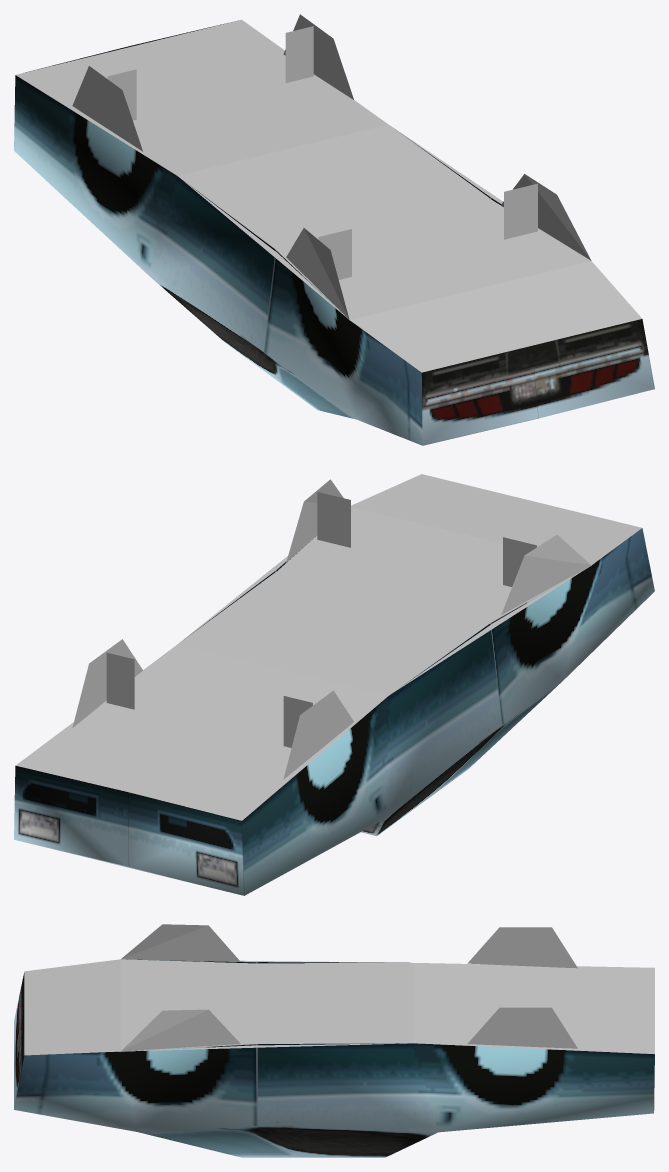
File: CHICAGO_model1_low.obj
3 renders of one model, top to bottom at view 1: azimuth 30°, elevation 25°; view 2: azimuth 150°, elevation 25°; view 3: azimuth 270°, elevation 25°, orthographic. The views are drawn at different scales.
Parts seen in each view (by area): view 1: CHICAGO_model1_low; view 2: CHICAGO_model1_low; view 3: CHICAGO_model1_low.
Part boxes in pixels (bbox=[...]): CHICAGO_model1_low: bbox=[14, 14, 654, 445]; CHICAGO_model1_low: bbox=[14, 474, 654, 895]; CHICAGO_model1_low: bbox=[14, 924, 654, 1157].
Bounding box in the file's own units: 250 × 204 × 734.
